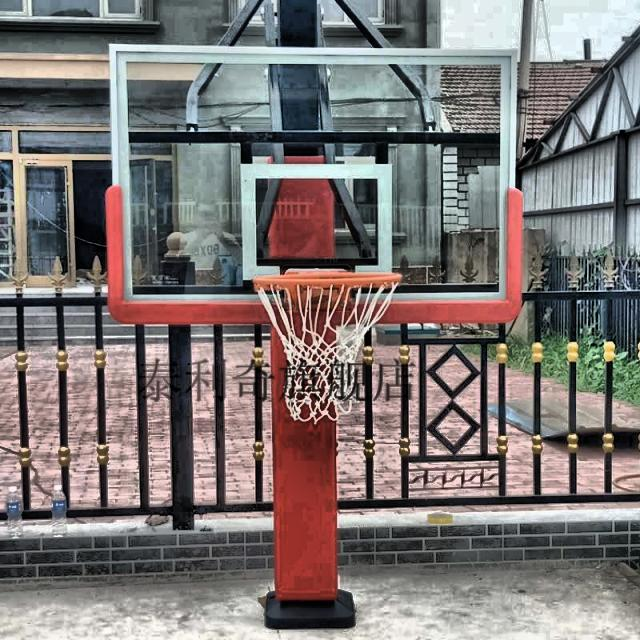rim: (250, 273, 405, 420)
